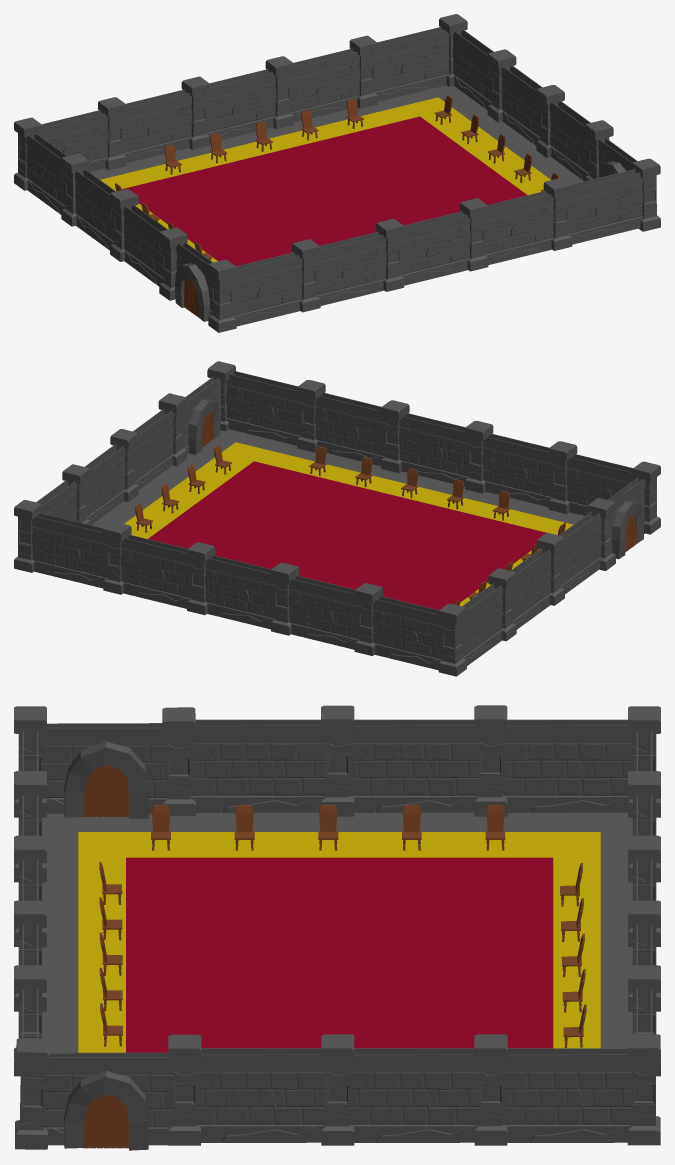
File: room1.fbx
3 renders of one model, top to bottom at view 1: azimuth 30°, elevation 25°; view 2: azimuth 150°, elevation 25°; view 3: azimuth 270°, elevation 25°, orthographic. The views are drawn at different scales.
Visible parts, largest first — view 1: Plane, wall.002, wall, wall.003, wall.001, pillar.002, pillar, pillar.001, gate--NORMALS-OK.001, pillar.003, chair.003, pillar.004 (+3 smaller); view 2: Plane, wall, wall.002, wall.003, pillar, pillar.002, wall.001, pillar.001, gate--NORMALS-OK, pillar.003, gate--NORMALS-OK.001, chair (+3 smaller); view 3: Plane, wall.001, wall.003, pillar.001, gate--NORMALS-OK, gate--NORMALS-OK.001, pillar.002, pillar, pillar.003, chair.002, pillar.004, pillar.014 (+4 smaller).
Part boxes in pixels (<box>): Plane: <box>90,85,583,266</box>; wall.002: <box>232,169,643,326</box>; wall: <box>38,26,449,171</box>; wall.003: <box>26,133,167,286</box>; wall.001: <box>453,29,590,181</box>; pillar.002: <box>208,178,572,332</box>; pillar: <box>14,35,377,190</box>; pillar.001: <box>439,14,613,180</box>; gate--NORMALS-OK.001: <box>174,241,212,321</box>; pillar.003: <box>61,153,138,261</box>; chair.003: <box>164,99,363,174</box>; pillar.004: <box>632,158,660,231</box>; Plane: <box>91,429,584,609</box>; wall: <box>32,512,442,670</box>; wall.002: <box>226,371,636,515</box>; wall.003: <box>462,511,601,665</box>; pillar: <box>103,522,466,676</box>; pillar.002: <box>297,380,660,534</box>; wall.001: <box>36,409,173,524</box>; pillar.001: <box>14,393,186,572</box>; gate--NORMALS-OK: <box>183,376,221,454</box>; pillar.003: <box>488,532,564,641</box>; gate--NORMALS-OK.001: <box>607,477,645,559</box>; chair: <box>309,446,509,520</box>; Plane: <box>42,811,632,1052</box>; wall.001: <box>196,1048,632,1142</box>; wall.003: <box>191,719,632,812</box>; pillar.001: <box>168,1034,660,1145</box>; gate--NORMALS-OK: <box>43,1052,172,1150</box>; gate--NORMALS-OK.001: <box>42,723,167,818</box>; pillar.002: <box>14,706,46,1076</box>; pillar: <box>628,706,660,1076</box>; pillar.003: <box>321,705,507,816</box>; chair.002: <box>151,805,505,850</box>; pillar.004: <box>15,1038,49,1149</box>; pillar.014: <box>162,707,195,815</box>.
Bounding box in the file's own units: 2613 × 362 × 2074.
